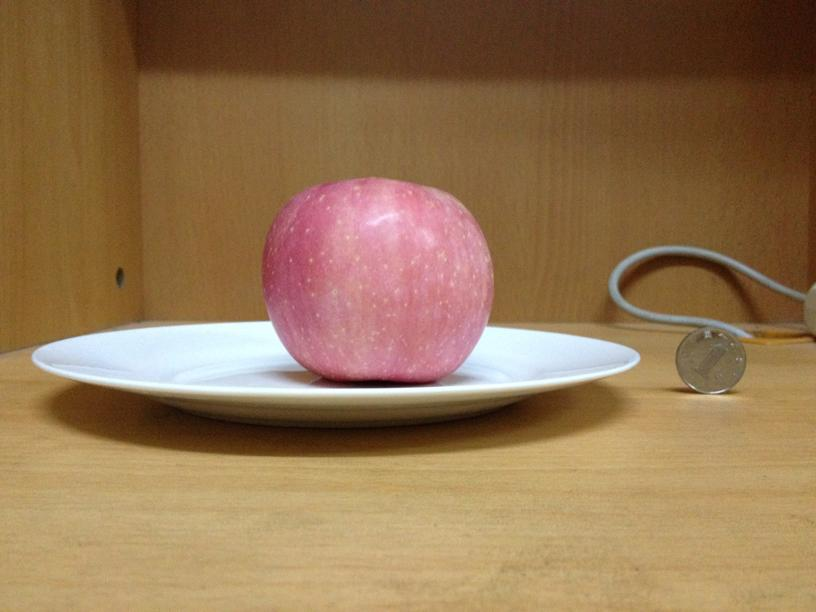apple: (261, 179, 495, 381)
coin: (674, 326, 747, 395)
